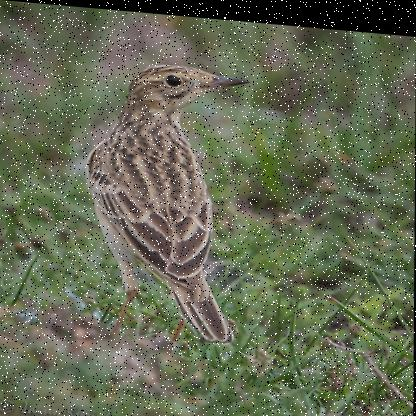Burung: (84, 55, 251, 357)
